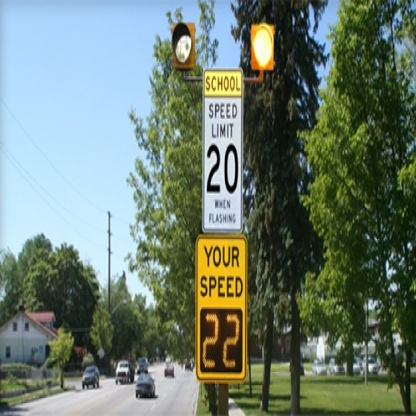limit1: (205, 97, 243, 200)
